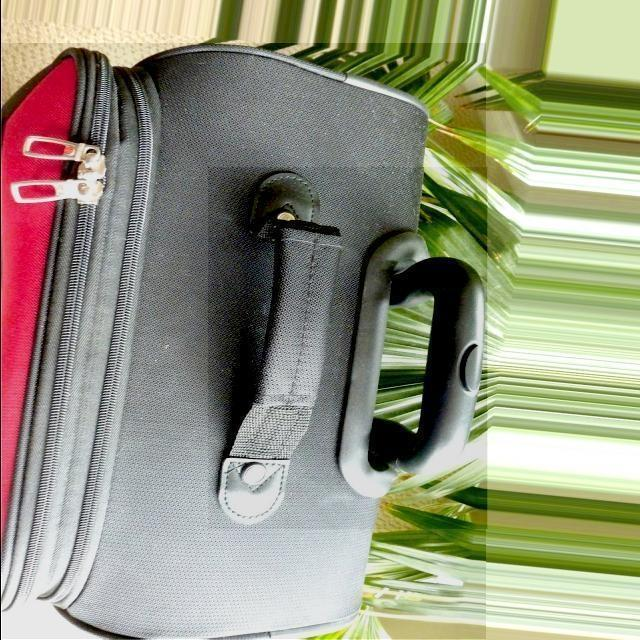Suitcase: (4, 46, 468, 640)
